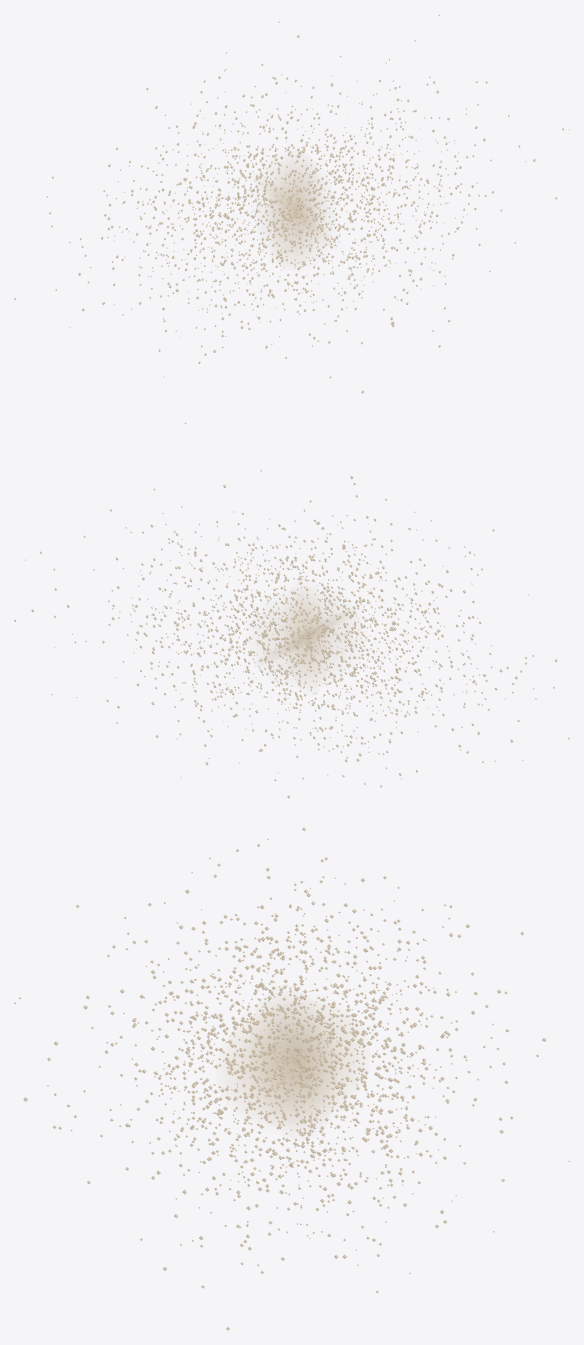
3 views of the same model, one above another, from view 1: azimuth 30°, elevation 25°; view 2: azimuth 150°, elevation 25°; view 3: azimuth 270°, elevation 25° (orthographic). The views are drawn at different scales.
Bounding box in the file's own units: 8.54 × 4.81 × 5.77.
